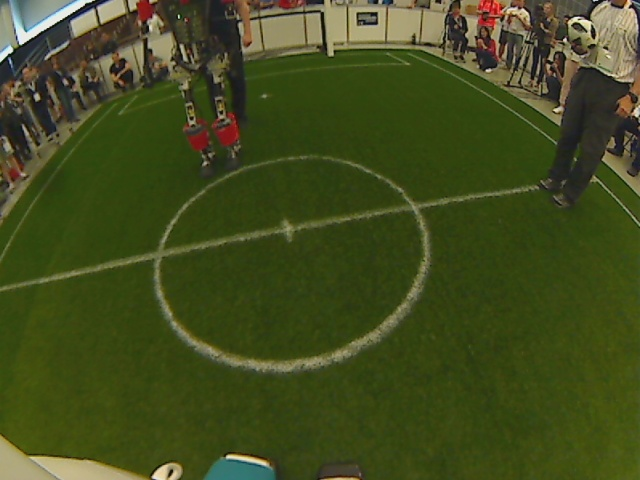ball: (565, 16, 600, 54)
